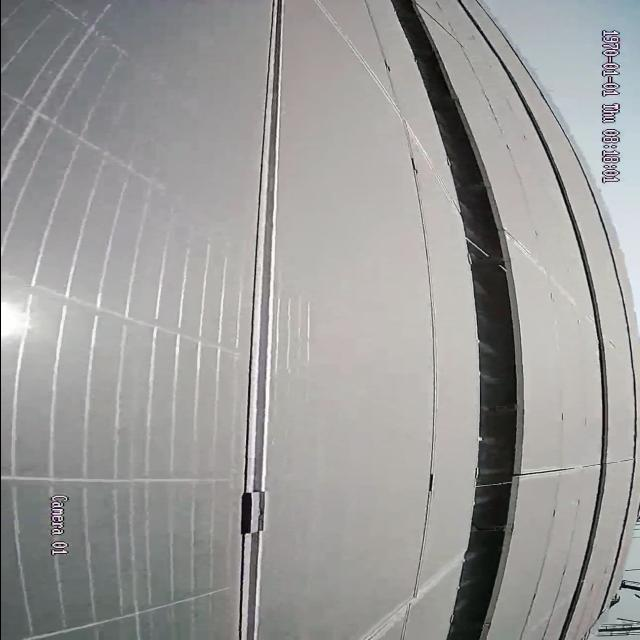interior panel: (238, 0, 284, 638)
outher panel: (386, 0, 521, 640)
